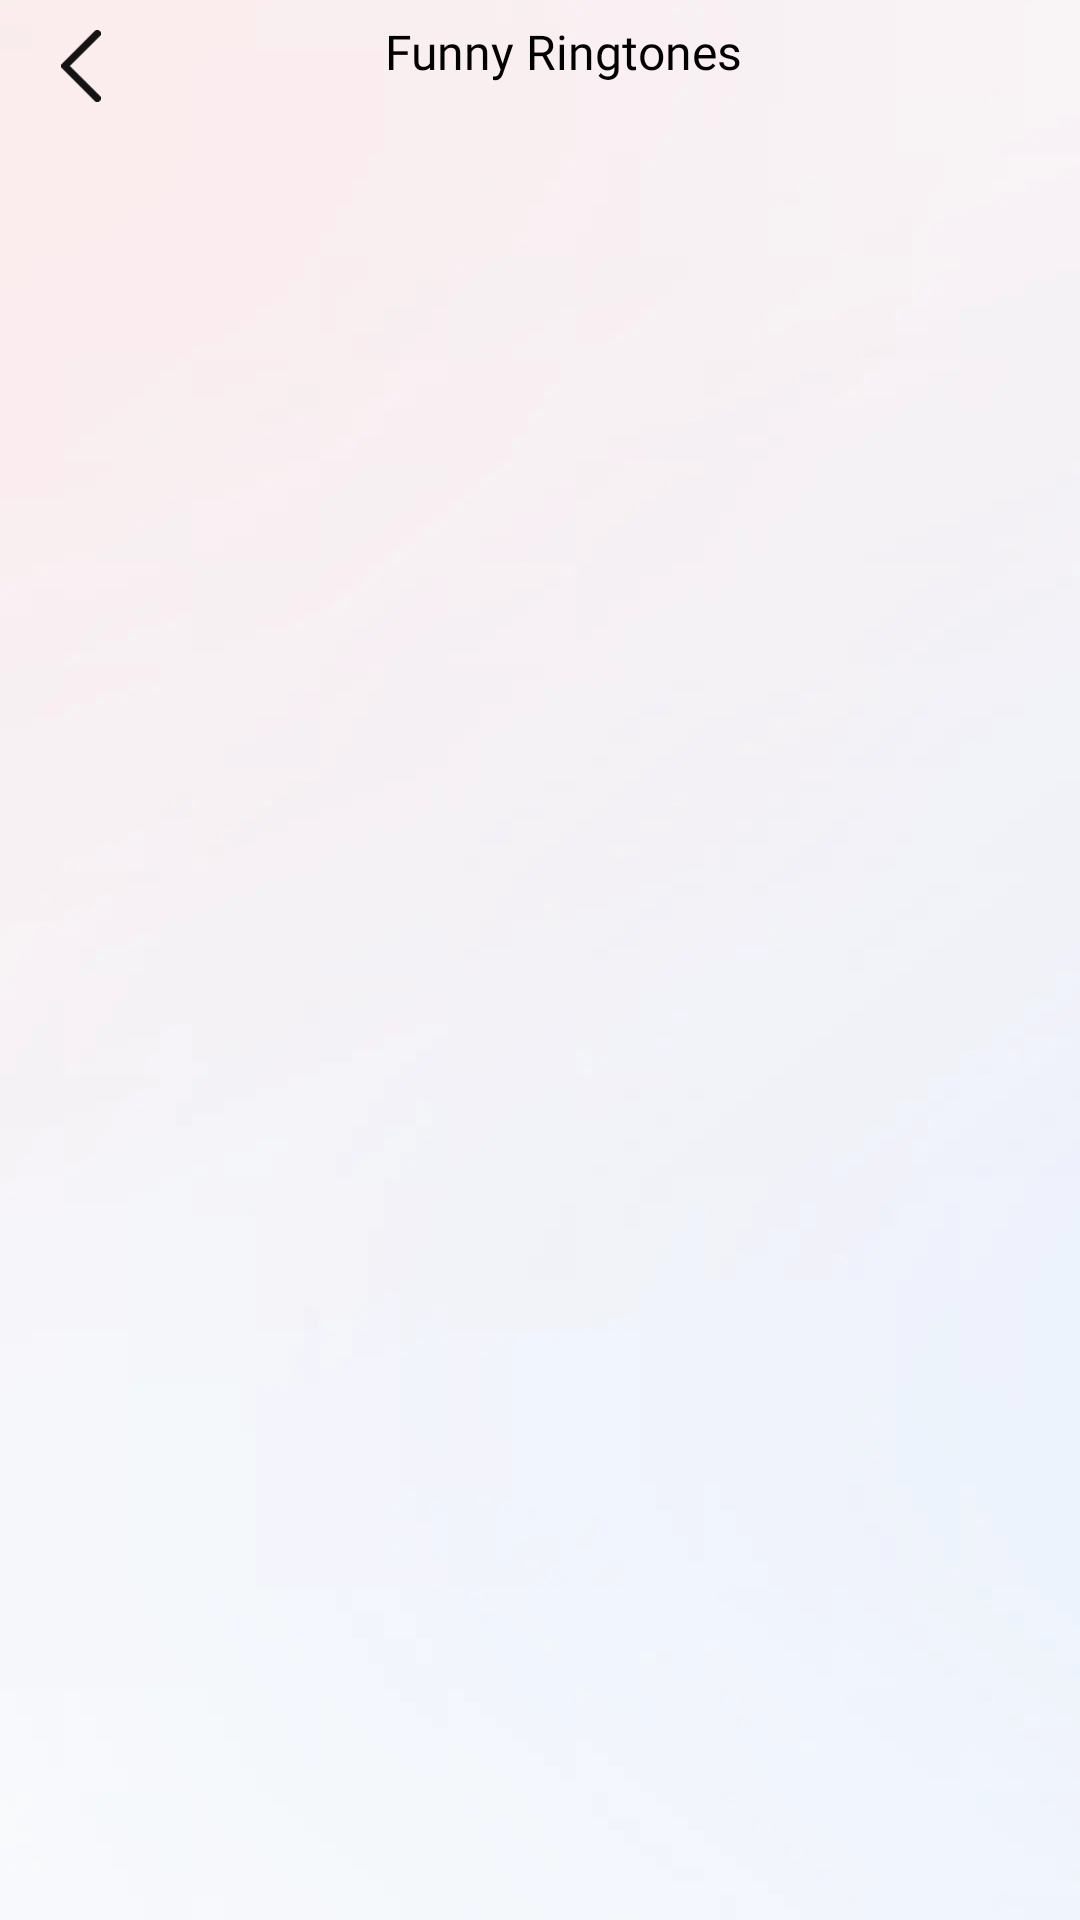

Icon bounding boxes for this 1080 × 1920 phone screenshot, format (x1, y1, x2, y2):
back: (61, 30, 101, 102)
